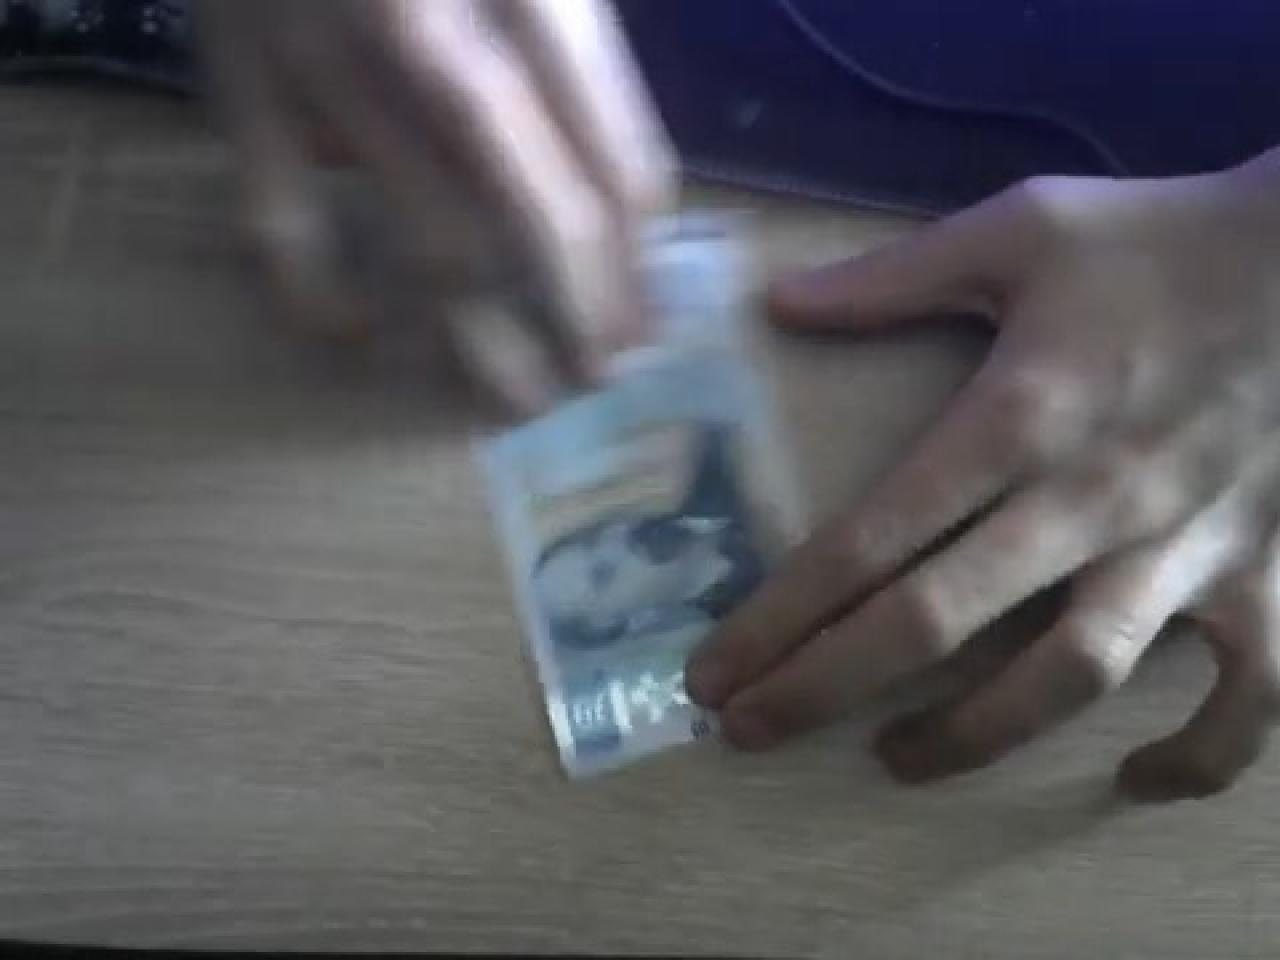20leva: (478, 312, 797, 782)
